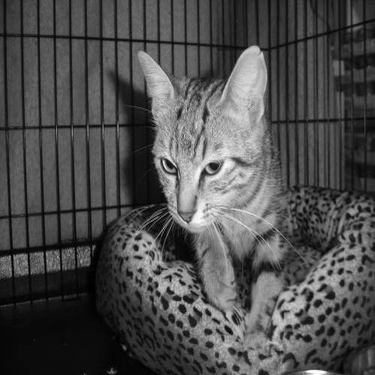cat: (135, 43, 287, 333)
